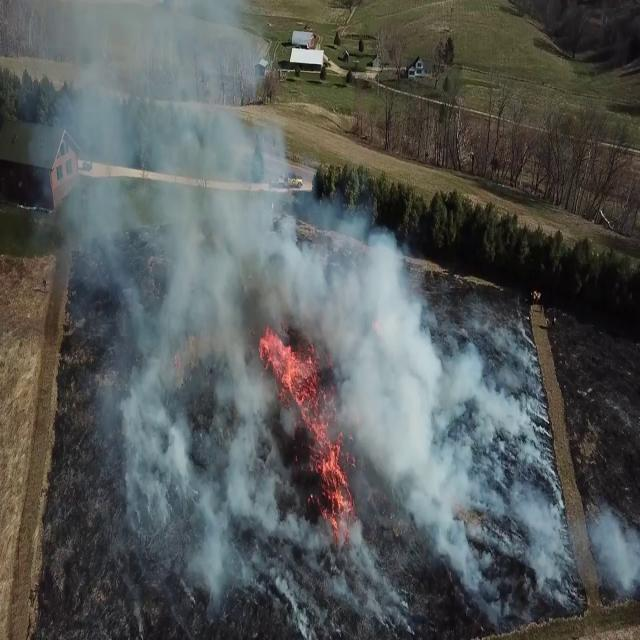Fire: (258, 309, 354, 532)
Smoke: (34, 42, 498, 624), (521, 490, 640, 616)
